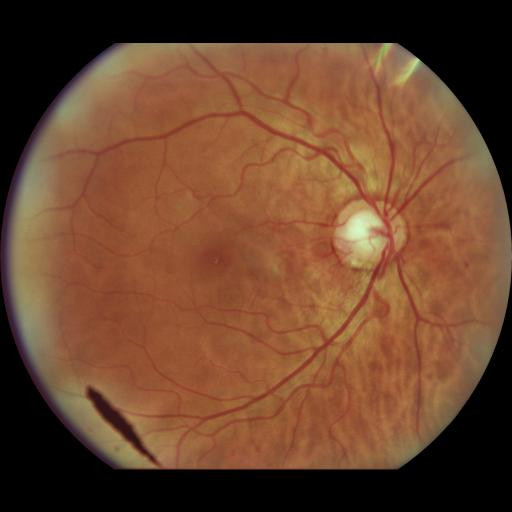Optic Cup: (345, 210, 386, 254)
Optic Disc: (333, 198, 408, 271)
